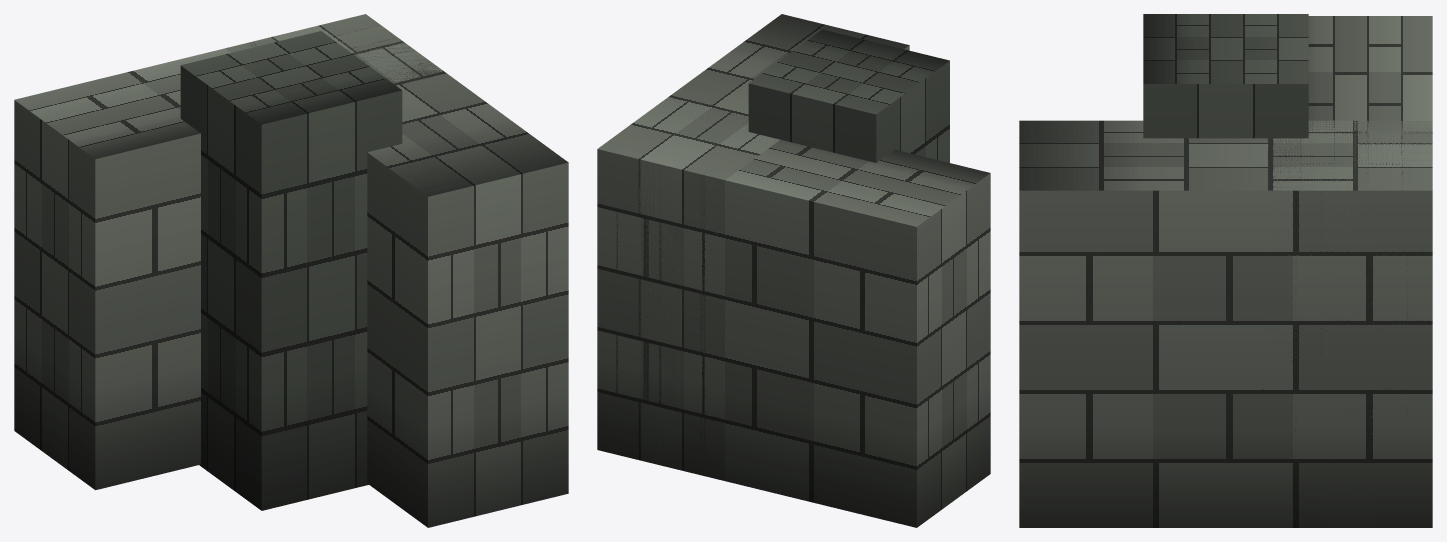
Rendered from wall_corner.glb.
3 renders of one model, left to right at view 1: azimuth 30°, elevation 25°; view 2: azimuth 150°, elevation 25°; view 3: azimuth 270°, elevation 25°, orthographic. The views are drawn at different scales.
Parts seen in each view (by area): view 1: wall_corner; view 2: wall_corner; view 3: wall_corner.
Boxes of the visible parts, x1,y1,x2,y2 form: wall_corner: [14, 14, 568, 527]; wall_corner: [597, 14, 990, 527]; wall_corner: [1019, 14, 1432, 527].
Bounding box in the file's own units: 1 × 1.05 × 1.
Materials: 1 (1 with a texture image).
